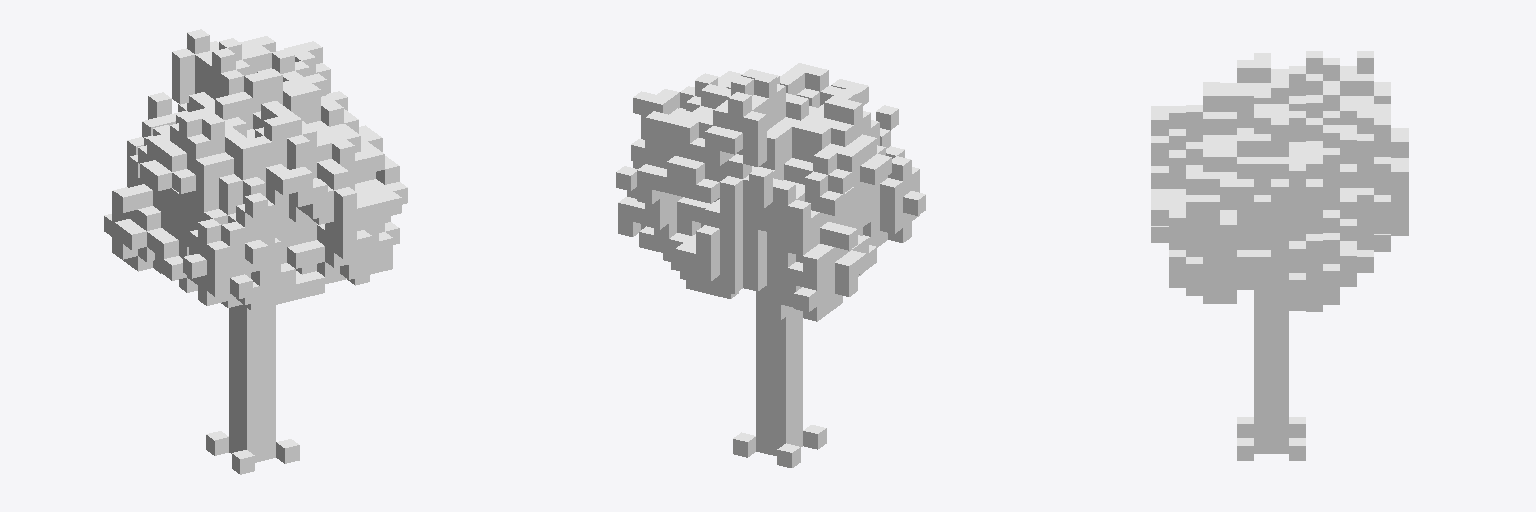
The model's file is Tree.obj.
The picture shows the model from 3 angles: view 1: azimuth 30°, elevation 25°; view 2: azimuth 150°, elevation 25°; view 3: azimuth 270°, elevation 25°; orthographic projection.
Size of the model in its own units: 15 by 25 by 15.